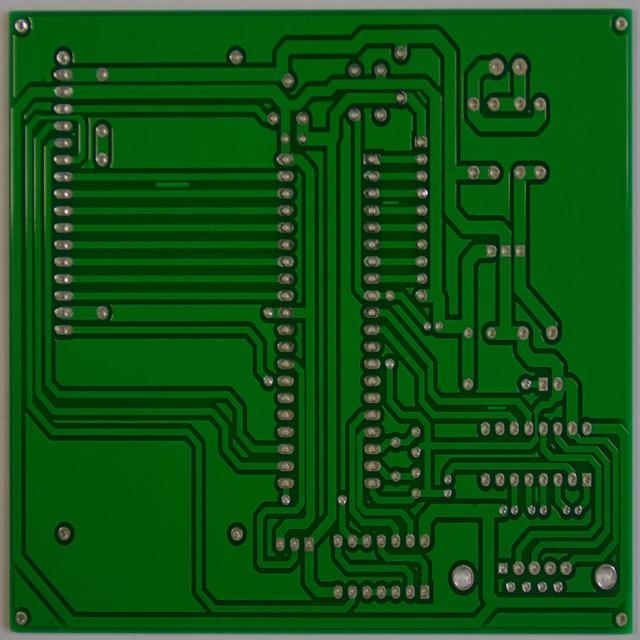spurious_copper: (152, 176, 192, 191), (413, 86, 430, 108), (484, 400, 508, 414), (380, 196, 401, 208), (531, 484, 541, 504)
